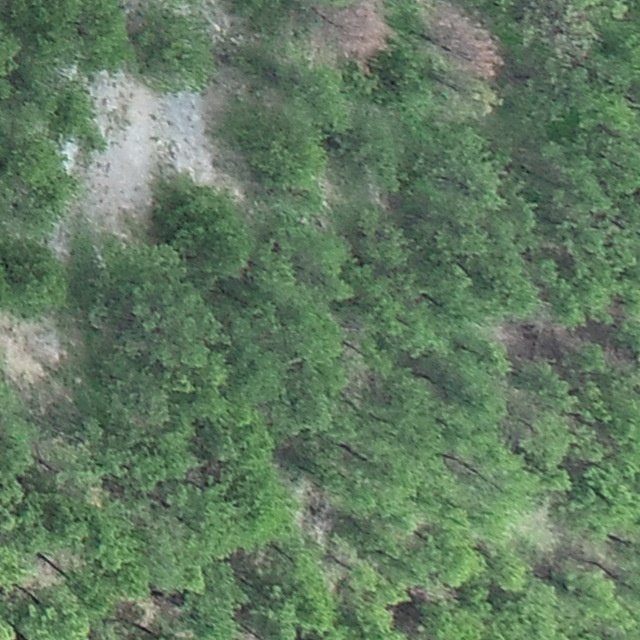unhealthy: (430, 1, 505, 81), (325, 1, 394, 67)
